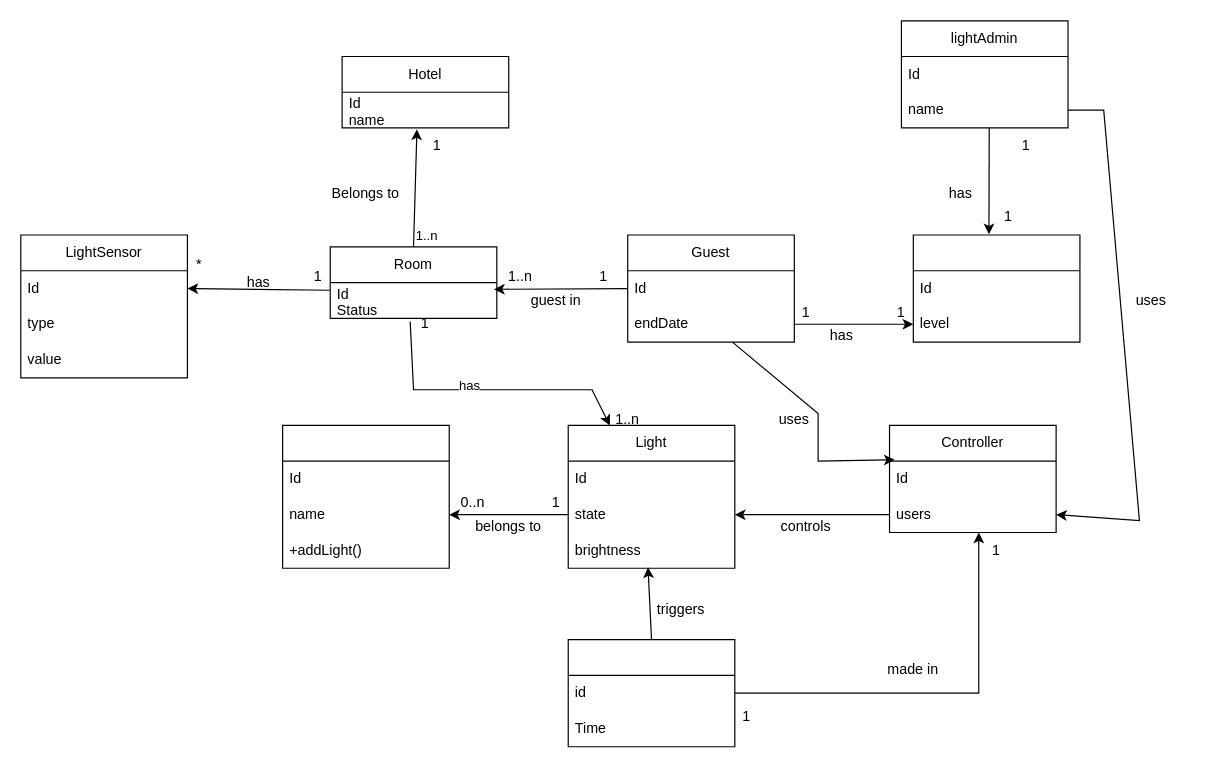
Image size: 1208x768. Some labels were removed from this diagram. The box of each missing label's shape, as (x1, y1, x2, y2) in pixels:
LightGroup: (281, 424, 449, 568)
LightSchedule: (567, 638, 735, 747)
Permissions: (912, 234, 1080, 342)
